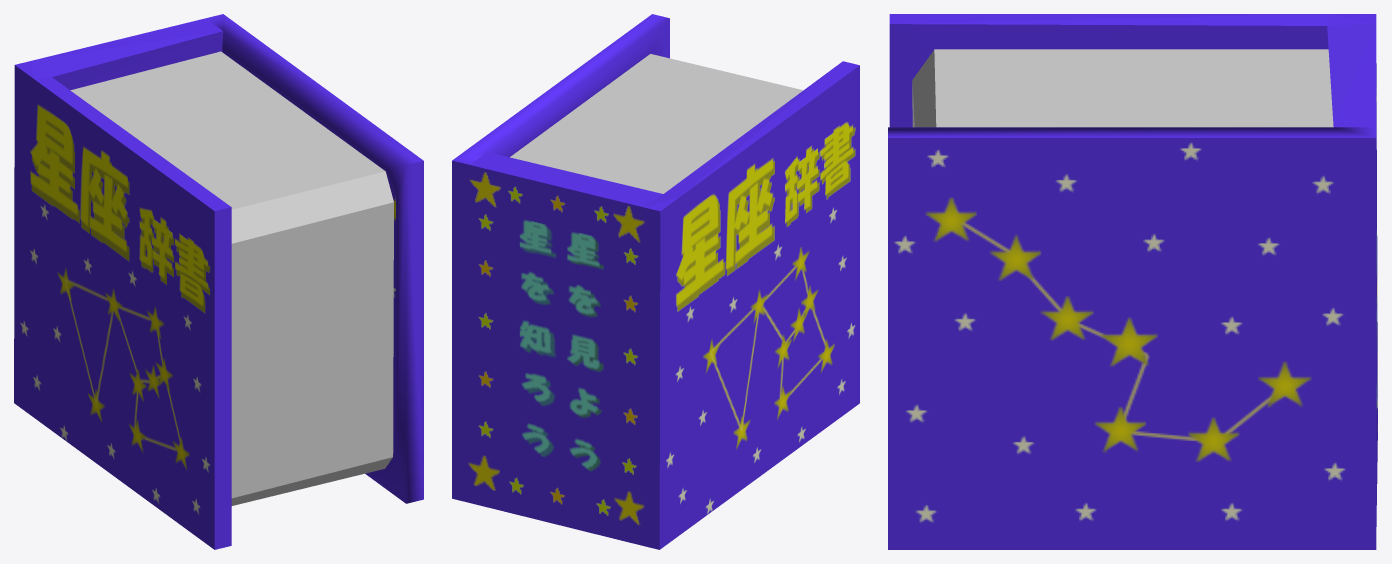
File: ConstellationDictionary.FBX
The picture shows the model from 3 angles, left to right: view 1: azimuth 30°, elevation 25°; view 2: azimuth 150°, elevation 25°; view 3: azimuth 270°, elevation 25°; orthographic projection. The views are drawn at different scales.
Parts seen in each view (by area): view 1: Cover, Paper; view 2: Cover, Paper; view 3: Cover, Paper.
Boxes of the visible parts, x1,y1,x2,y2 form: Cover: (14,14,423,549); Paper: (70,51,393,505); Cover: (452,14,859,549); Paper: (510,54,802,193); Cover: (888,14,1377,549); Paper: (912,49,1377,129).
Size of the model in its own units: 11.36 by 17.7 by 18.98.
Materials: 2 (1 with a texture image).
